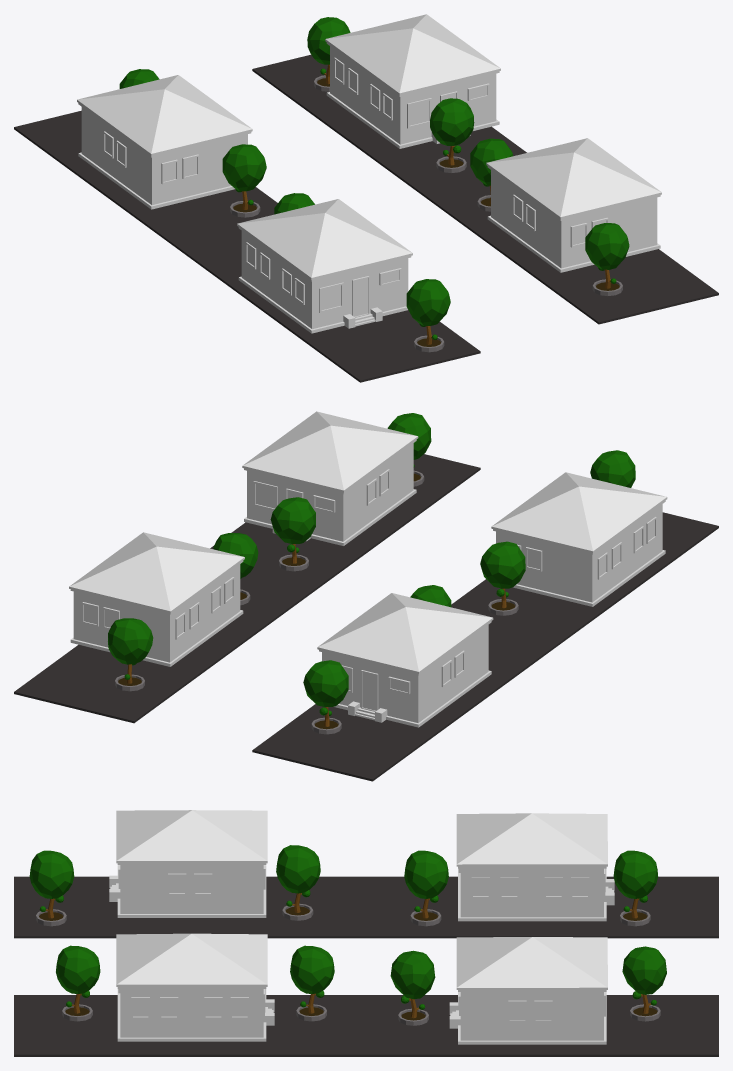
The model's file is taemplate_b_004.fbx.
3 renders of one model, top to bottom at view 1: azimuth 30°, elevation 25°; view 2: azimuth 150°, elevation 25°; view 3: azimuth 270°, elevation 25°, orthographic.
Visible parts, largest first — view 1: roadside.008, roadside.007, one-story house. 017, one-story house.018, one-story house.016, one-story house. 014, tree.031, tree.026, tree.028, tree.030, tree.032, tree.029; view 2: roadside.008, roadside.007, one-story house.018, one-story house. 017, one-story house. 014, one-story house.016, tree.025, tree.027, tree.029, tree.032, tree.028, tree.031 (+1 smaller); view 3: roadside.008, roadside.007, one-story house.018, one-story house. 014, one-story house. 017, one-story house.016, tree.026, tree.025, tree.029, tree.028, tree.027, tree.030 (+2 smaller).
Part boxes in pixels (left/top/right/bottom): roadside.008: left=252, top=54, right=718, bottom=324; roadside.007: left=14, top=110, right=480, bottom=382; one-story house. 017: left=237, top=199, right=412, bottom=333; one-story house.018: left=77, top=75, right=252, bottom=209; one-story house.016: left=325, top=14, right=500, bottom=148; one-story house. 014: left=486, top=138, right=661, bottom=272; tree.031: left=430, top=98, right=474, bottom=172; tree.026: left=222, top=144, right=266, bottom=217; tree.028: left=406, top=279, right=450, bottom=352; tree.030: left=585, top=223, right=629, bottom=295; tree.032: left=307, top=17, right=350, bottom=91; tree.029: left=470, top=138, right=512, bottom=211; roadside.008: left=14, top=454, right=480, bottom=723; roadside.007: left=252, top=512, right=718, bottom=781; one-story house.018: left=317, top=593, right=493, bottom=727; one-story house. 017: left=491, top=472, right=667, bottom=606; one-story house. 014: left=242, top=411, right=418, bottom=545; one-story house.016: left=69, top=532, right=244, bottom=666; tree.025: left=480, top=541, right=525, bottom=615; tree.027: left=303, top=660, right=348, bottom=734; tree.029: left=270, top=497, right=315, bottom=571; tree.032: left=108, top=618, right=153, bottom=691; tree.028: left=590, top=450, right=635, bottom=487; tree.031: left=213, top=533, right=258, bottom=605; roadside.008: left=14, top=995, right=718, bottom=1056; roadside.007: left=14, top=876, right=718, bottom=938; one-story house.018: left=456, top=813, right=614, bottom=921; one-story house. 014: left=116, top=933, right=274, bottom=1041; one-story house. 017: left=109, top=810, right=267, bottom=917; one-story house.016: left=449, top=937, right=607, bottom=1044; tree.026: left=404, top=850, right=448, bottom=926; tree.025: left=276, top=845, right=320, bottom=920; tree.029: left=290, top=945, right=334, bottom=1021; tree.028: left=29, top=850, right=74, bottom=926; tree.027: left=613, top=850, right=658, bottom=926; tree.030: left=56, top=945, right=100, bottom=1021.
Bounding box in the file's own units: 891 × 220 × 1489.
